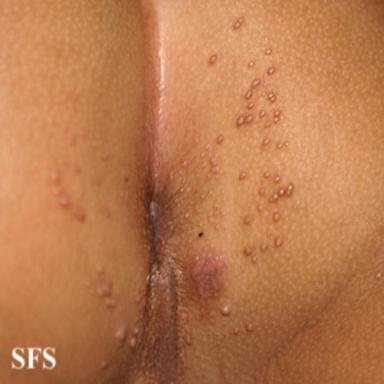Molluscum-Contagiosum: (49, 170, 86, 222), (191, 252, 225, 299), (97, 280, 115, 308), (269, 184, 294, 202), (206, 154, 219, 180), (115, 324, 127, 341), (236, 115, 253, 127), (214, 203, 226, 216), (234, 17, 244, 29), (221, 305, 230, 316), (95, 265, 104, 275), (268, 92, 276, 103), (274, 110, 281, 122), (251, 78, 260, 87), (209, 54, 217, 64), (130, 337, 137, 348), (73, 164, 81, 173), (275, 238, 283, 247), (245, 89, 252, 99), (244, 247, 252, 255), (246, 323, 253, 332), (273, 212, 280, 221), (186, 335, 192, 345), (239, 172, 246, 180), (244, 216, 251, 224), (263, 138, 270, 146), (268, 67, 275, 75), (208, 211, 213, 222), (260, 244, 267, 251), (247, 102, 254, 109), (248, 61, 255, 68), (217, 135, 223, 143), (133, 328, 139, 335), (233, 328, 239, 335), (251, 255, 257, 262), (257, 204, 263, 211), (259, 188, 265, 195), (275, 176, 281, 183), (263, 172, 270, 178), (259, 110, 265, 117), (265, 49, 272, 55), (277, 143, 283, 149), (265, 122, 271, 128), (185, 212, 190, 219), (200, 193, 205, 200), (182, 160, 187, 167), (208, 190, 213, 196), (284, 141, 289, 147), (264, 36, 269, 41), (267, 230, 271, 236), (262, 91, 266, 96)
